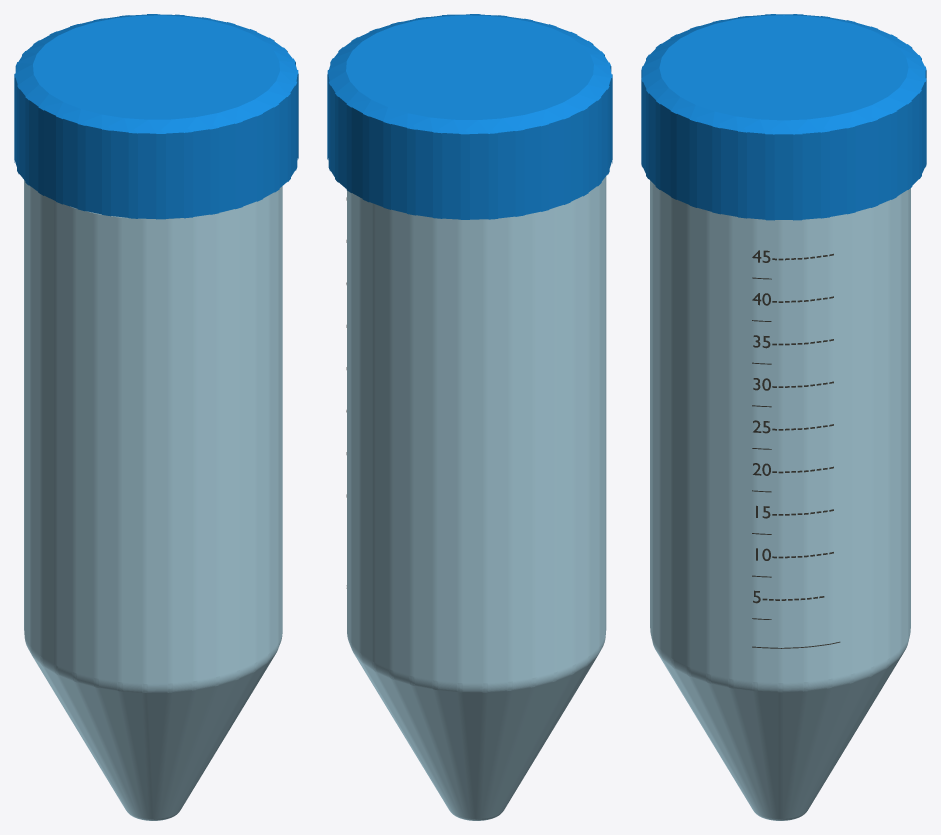
The model's file is Centerfugtunes.fbx.
3 renders of one model, left to right at view 1: azimuth 30°, elevation 25°; view 2: azimuth 150°, elevation 25°; view 3: azimuth 270°, elevation 25°, orthographic.
Visible parts, largest first — view 1: Cylinder, Cylinder.001; view 2: Cylinder, Cylinder.001; view 3: Cylinder, Cylinder.001, Text.
Part boxes in pixels (x1,y1,x2,y2): Cylinder: (24,180,282,820); Cylinder.001: (14,14,298,219); Cylinder: (347,176,606,820); Cylinder.001: (327,14,612,219); Cylinder: (650,180,910,820); Cylinder.001: (641,14,926,220); Text: (752,250,840,648).
Bounding box in the file's own units: 219 × 630 × 219.
